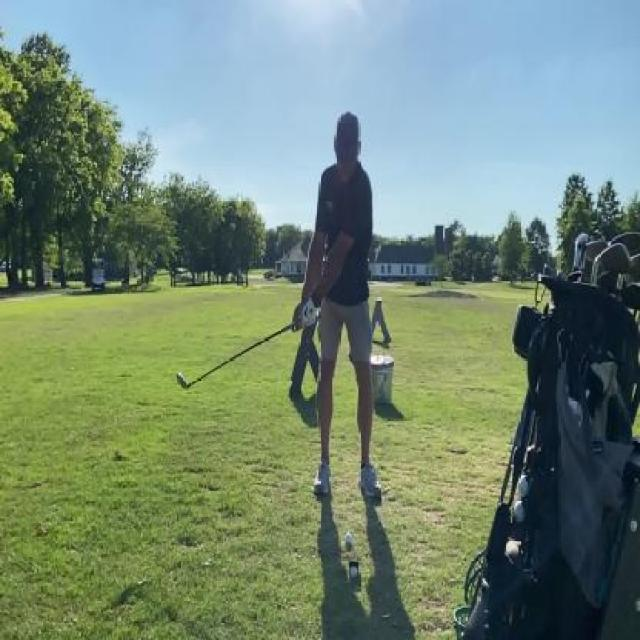club head: (176, 373, 193, 390)
